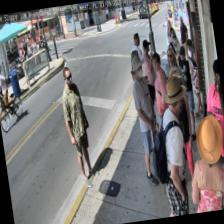person: (150, 74, 202, 216), (56, 64, 100, 190), (127, 55, 165, 185), (180, 113, 224, 213), (150, 50, 180, 163), (174, 43, 202, 140), (159, 46, 190, 130), (165, 30, 188, 97)
